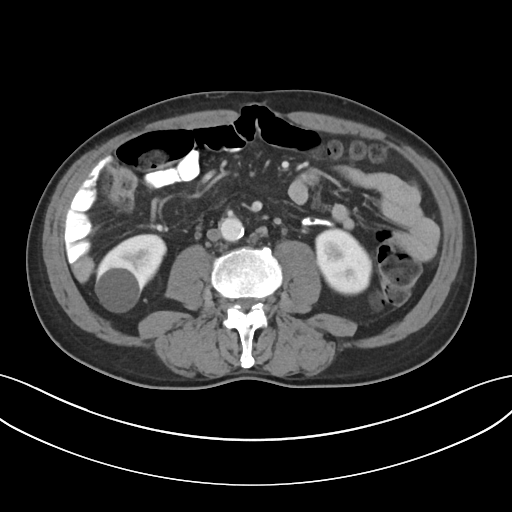Lesion: (97, 269, 141, 318)
